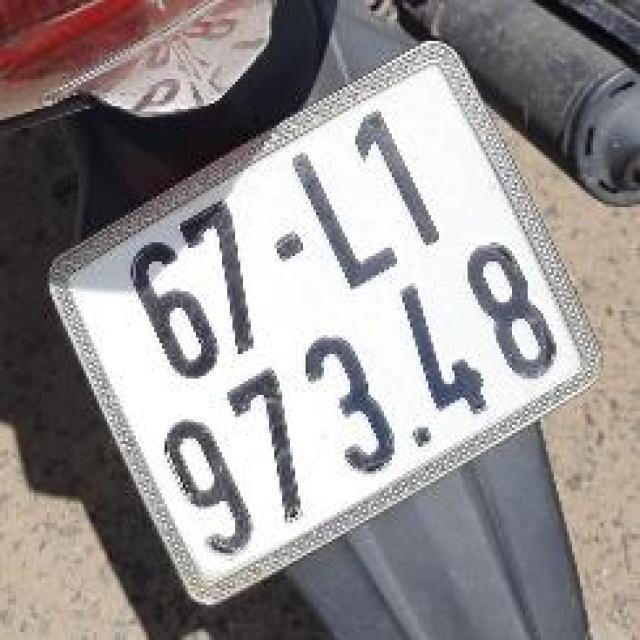1: (330, 91, 458, 265)
3: (290, 320, 410, 490)
4: (380, 265, 498, 436)
6: (114, 229, 232, 396)
7: (210, 352, 328, 539), (166, 192, 286, 369)
8: (441, 218, 571, 399)
9: (142, 399, 267, 570)
L: (276, 129, 411, 307)
